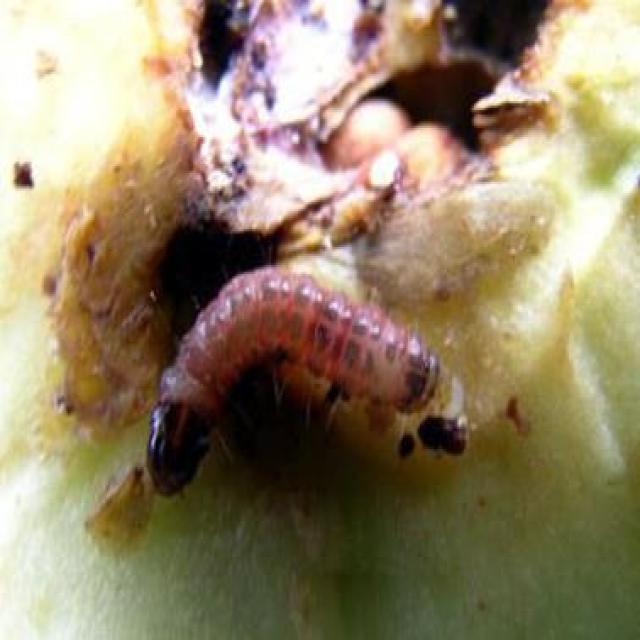peach borer: (142, 255, 474, 502)
